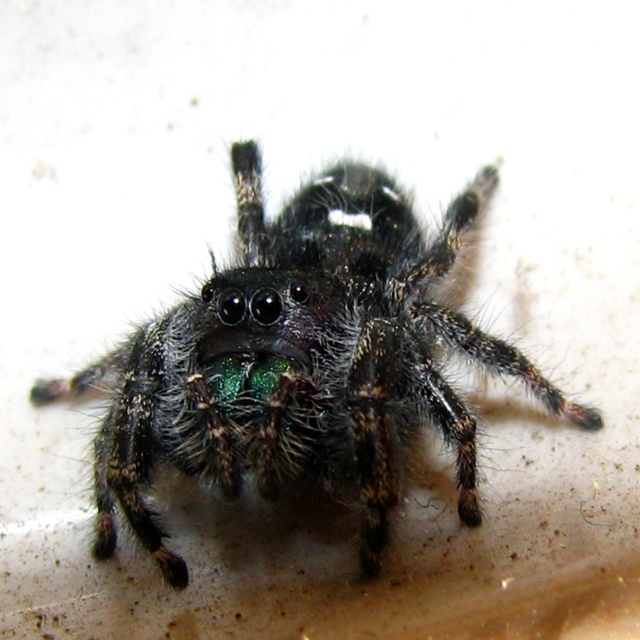Spider: (29, 129, 604, 592)
